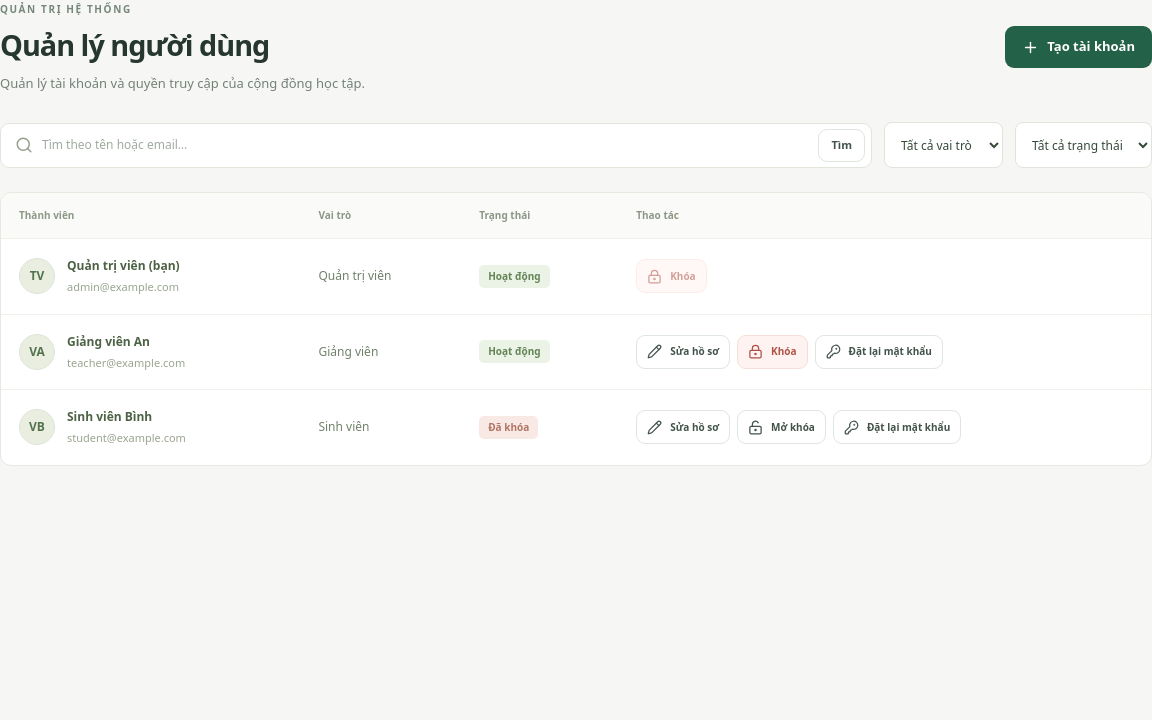
Test: closes without a request when no profile field changed
This screenshot has width=1152, height=720.
Click the button "Sửa hồ sơ" in the row of "Giảng viên An" at [683, 352], box top-left (636, 335), bottom-right (730, 369)
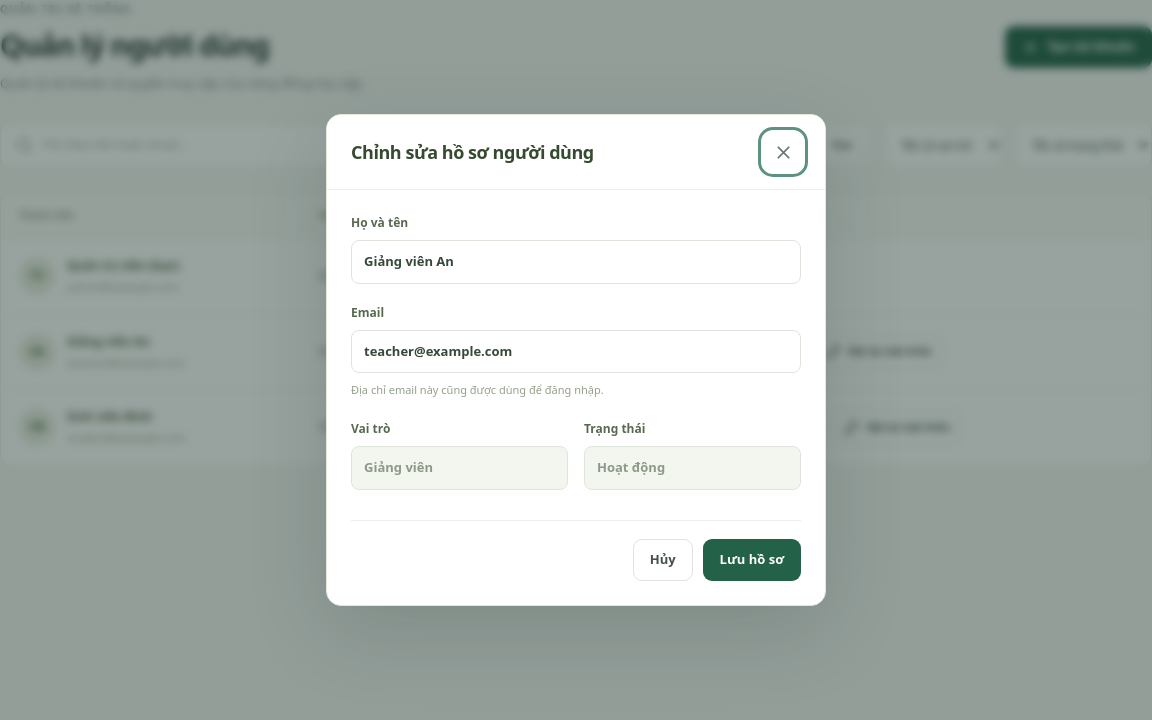
Click the button "Lưu hồ sơ" at [752, 560], box top-left (703, 539), bottom-right (801, 581)
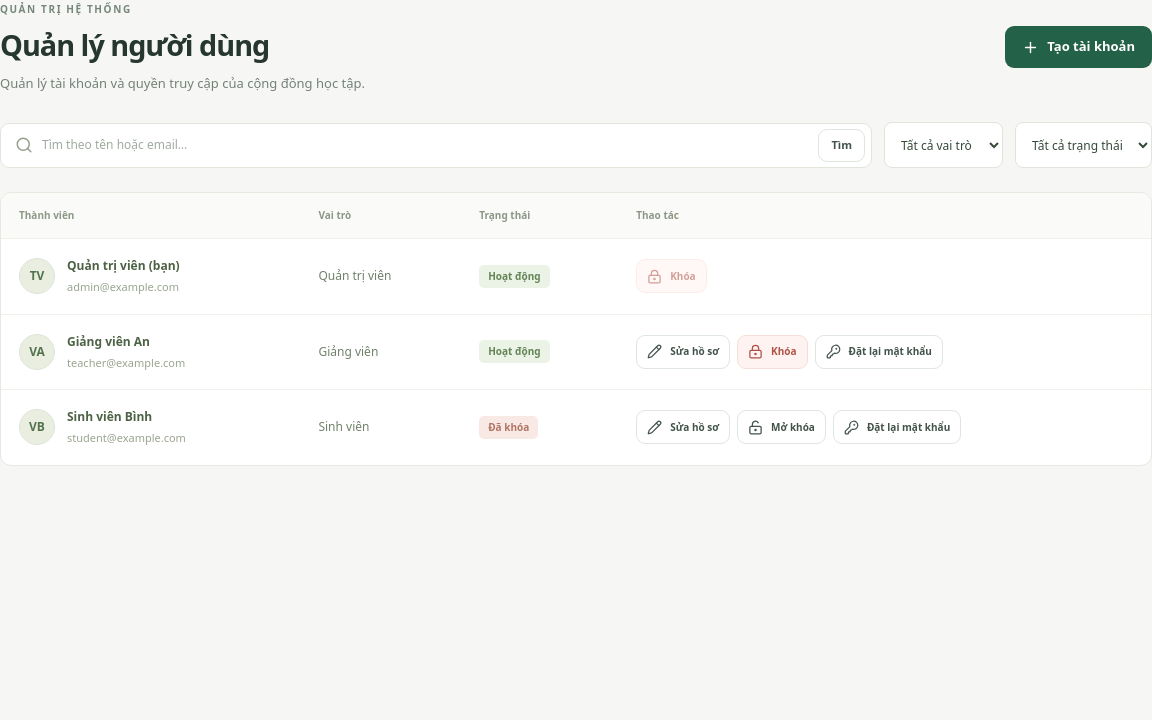
Check: the dialog is gone
